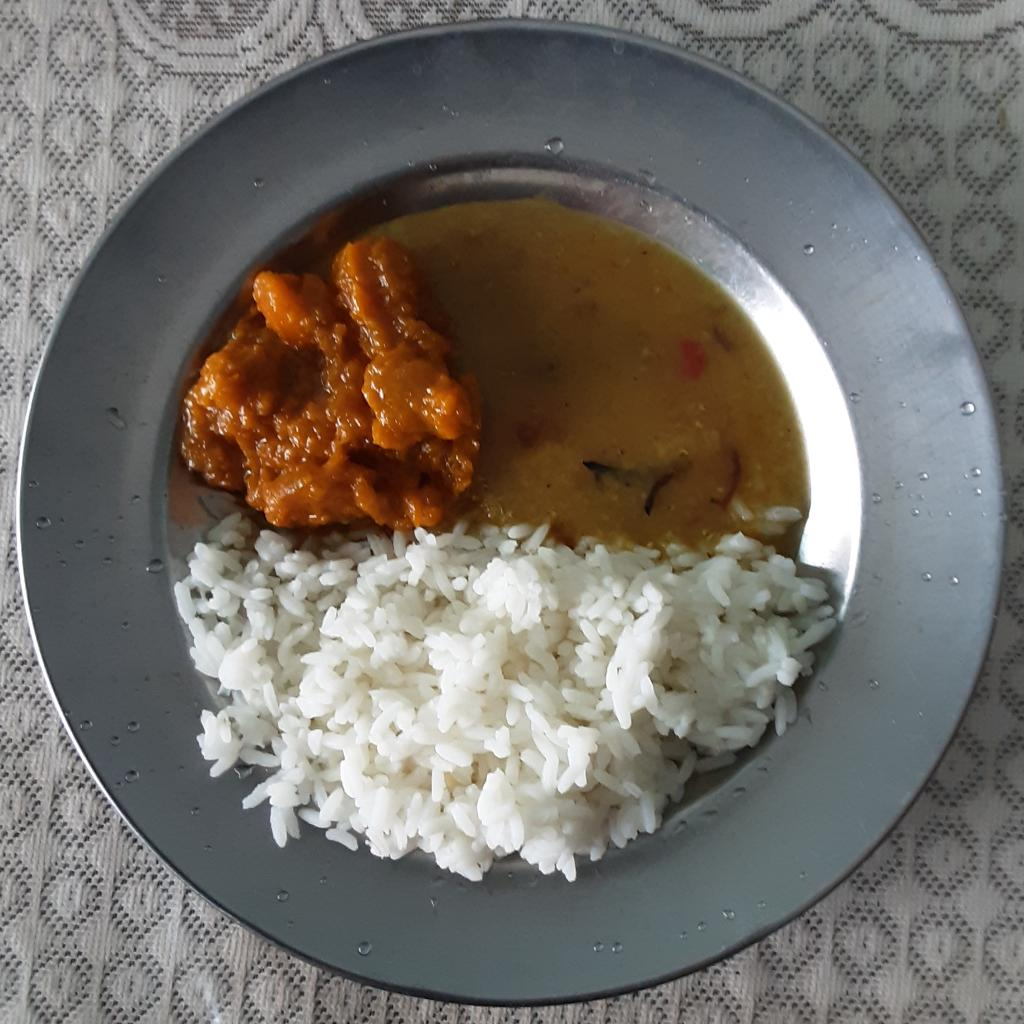daal: (382, 200, 810, 552)
kumra-vaji: (176, 236, 486, 532)
rice: (173, 504, 838, 882)
